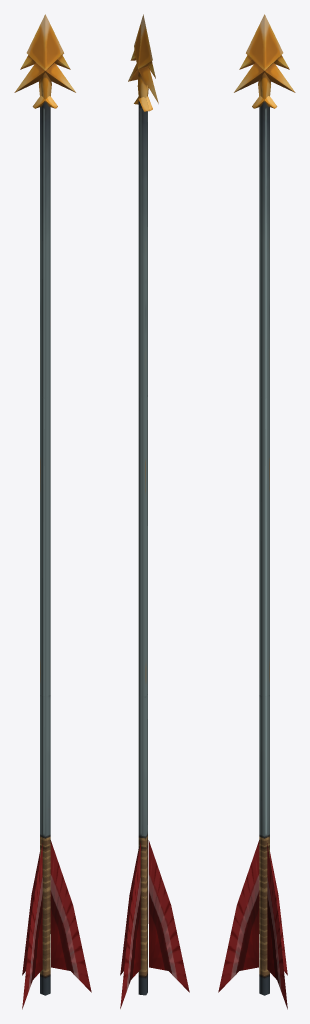
The model's file is Arrow02_mesh.FBX.
3 renders of one model, left to right at view 1: azimuth 90°, elevation 25°; view 2: azimuth 210°, elevation 25°; view 3: azimuth 270°, elevation 25°, orthographic.
Visible parts, largest first — view 1: Arrow02_mesh; view 2: Arrow02_mesh; view 3: Arrow02_mesh.
Boxes of the visible parts, x1,y1,x2,y2 form: Arrow02_mesh: (14,14,91,1009); Arrow02_mesh: (120,14,189,1008); Arrow02_mesh: (218,14,295,1009).
Size of the model in its own units: 2.87 by 38.56 by 2.77.
